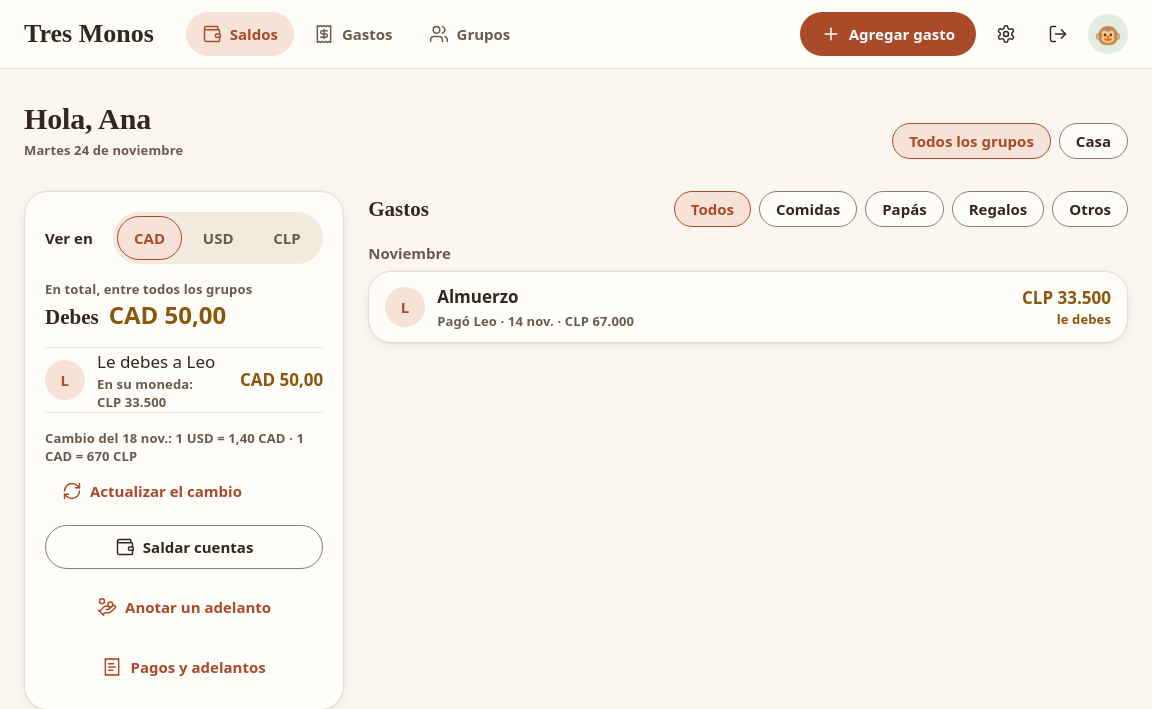
Test: DashboardScreen › settings › starts at the saved avatar and saves only when it changes
Click the button named "Ajustes" at (1006, 34), box [984,12,1028,56]
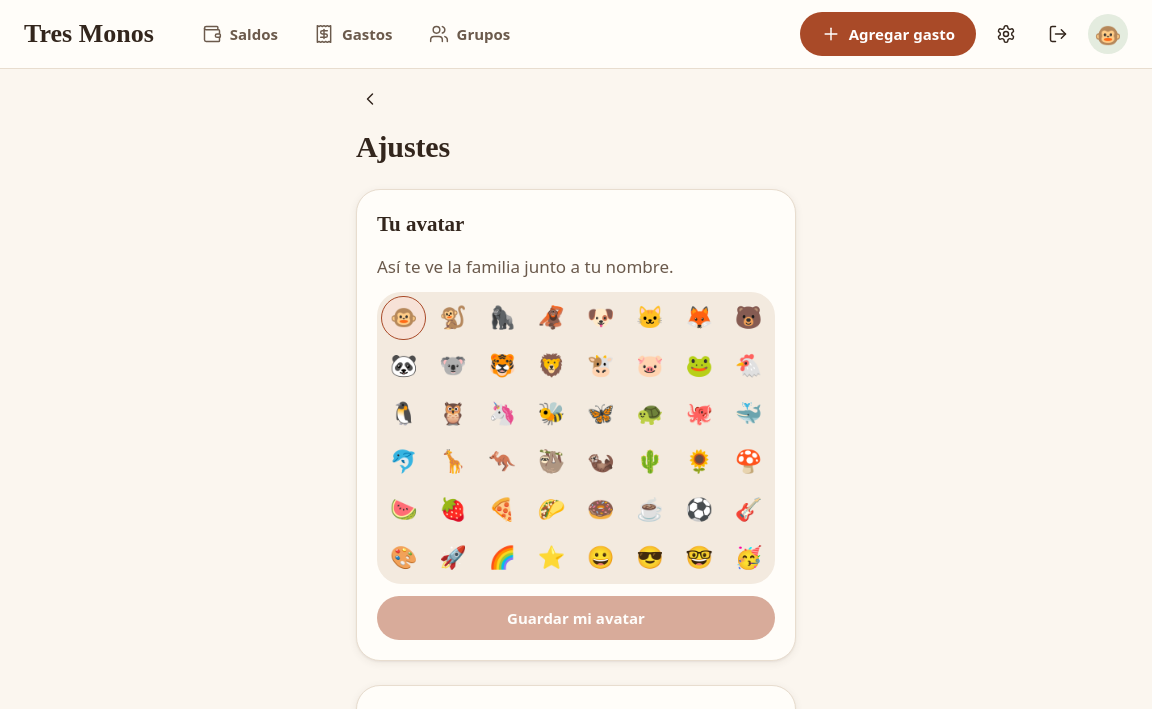
Now the heading "Ajustes" is shown, box [356,130,450,163]
Now the button "Guardar mi avatar" is disabled, box [377,596,775,640]
Click the radio button labelled "🦊" at (699, 318), box [676,296,722,340]
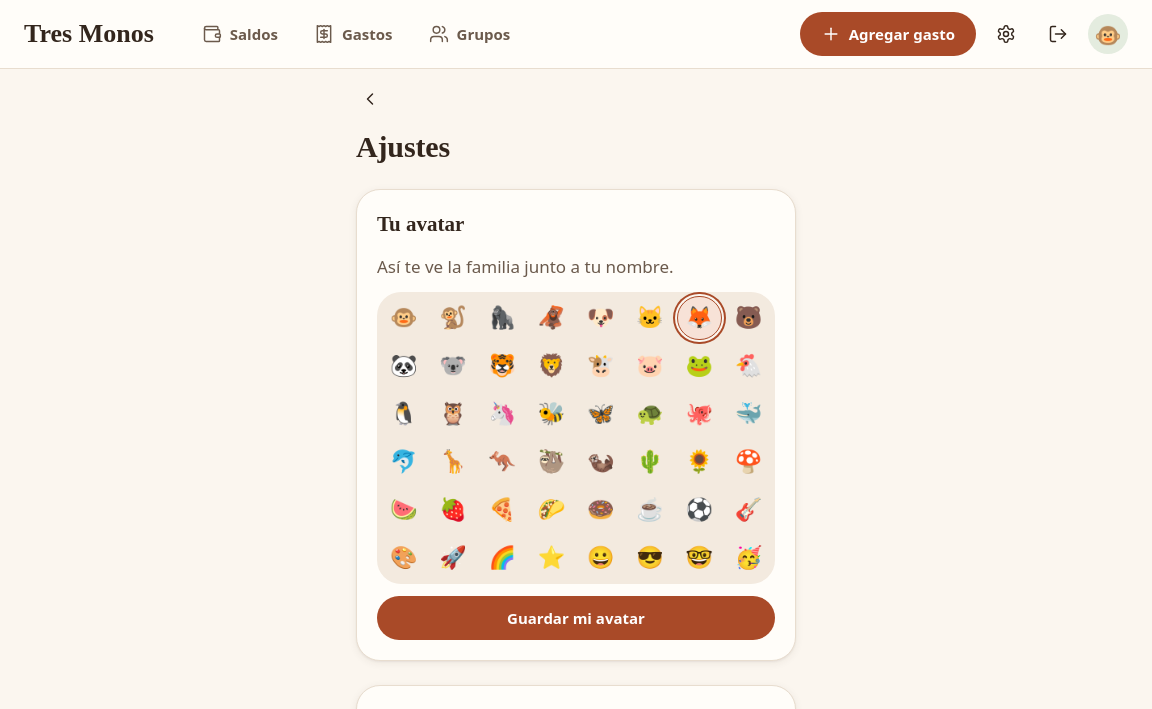
Now the button "Guardar mi avatar" is enabled, box [377,596,775,640]
